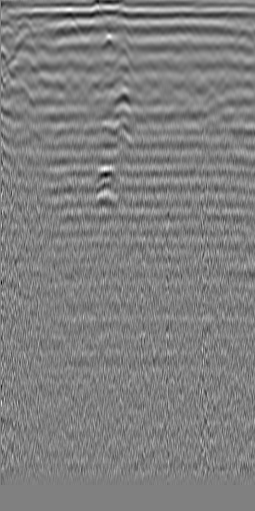가스: (93, 176, 123, 204)
상수: (6, 19, 37, 44)
우수: (130, 19, 153, 48)
